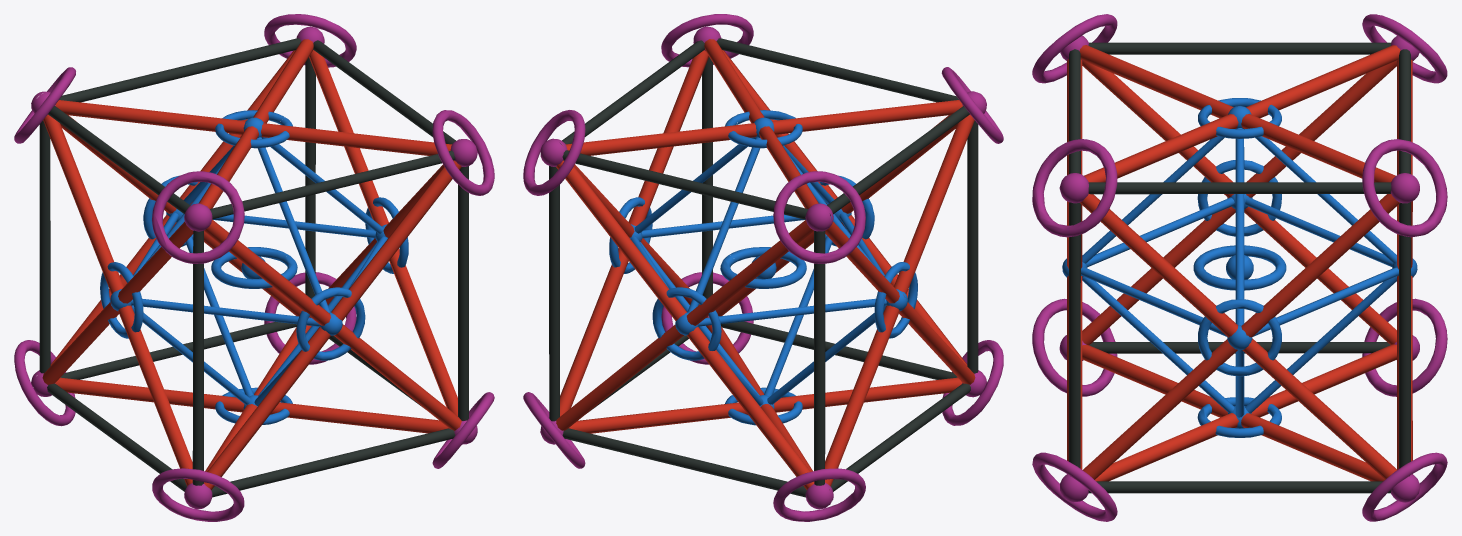
File: nexus.glb
The picture shows the model from 3 angles, left to right: view 1: azimuth 30°, elevation 25°; view 2: azimuth 150°, elevation 25°; view 3: azimuth 270°, elevation 25°; orthographic projection. The views are drawn at different scales.
Parts seen in each view (by area): view 1: tetra_a_edge_0, cube_edge_0, octa_edge_0, node_corner_0_core; view 2: tetra_a_edge_0, cube_edge_0, octa_edge_0, node_corner_0_core; view 3: tetra_a_edge_0, node_corner_0_core, cube_edge_0, octa_edge_0.
Part boxes in pixels (bbox=[...]): tetra_a_edge_0: bbox=[42, 39, 461, 489]; cube_edge_0: bbox=[39, 38, 468, 497]; octa_edge_0: bbox=[100, 110, 408, 424]; node_corner_0_core: bbox=[14, 14, 494, 521]; tetra_a_edge_0: bbox=[556, 39, 975, 489]; cube_edge_0: bbox=[549, 38, 978, 497]; octa_edge_0: bbox=[609, 110, 917, 425]; node_corner_0_core: bbox=[523, 14, 1003, 521]; tetra_a_edge_0: bbox=[1067, 45, 1412, 481]; node_corner_0_core: bbox=[1032, 14, 1447, 521]; cube_edge_0: bbox=[1069, 42, 1410, 493]; octa_edge_0: bbox=[1062, 98, 1417, 437].
Bounding box in the file's own units: 0.7551 × 0.7551 × 0.7549.
